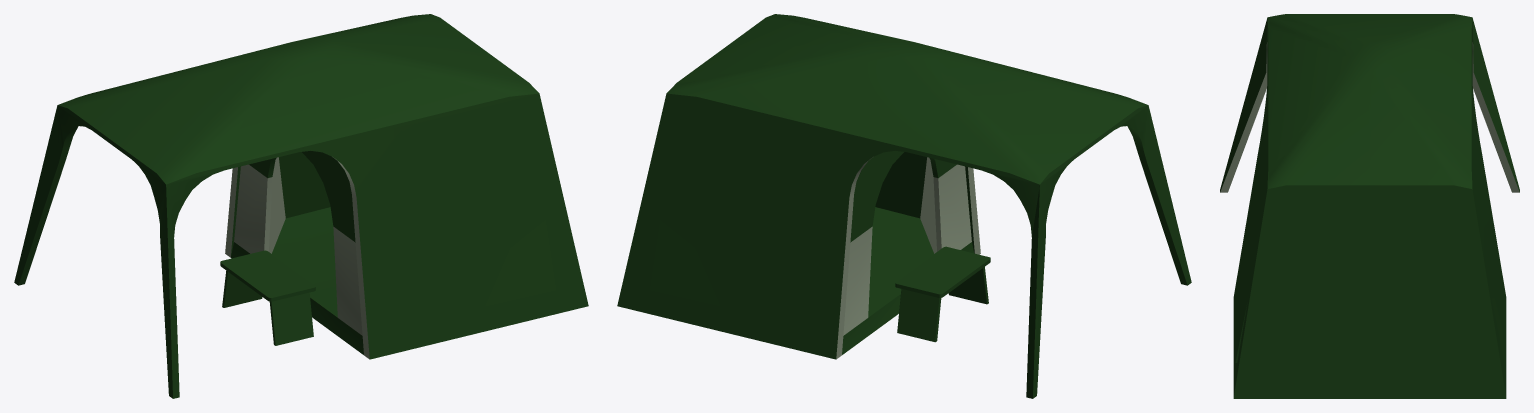
Rendered from Tent.fbx.
The picture shows the model from 3 angles, left to right: view 1: azimuth 30°, elevation 25°; view 2: azimuth 150°, elevation 25°; view 3: azimuth 270°, elevation 25°; orthographic projection. The views are drawn at different scales.
Visible parts, largest first — view 1: Cube, Cube.001; view 2: Cube, Cube.001; view 3: Cube.
Part boxes in pixels (x1,y1,x2,y2): Cube: [14, 14, 588, 398]; Cube.001: [220, 250, 315, 345]; Cube: [617, 14, 1191, 398]; Cube.001: [895, 246, 990, 342]; Cube: [1220, 14, 1519, 398].
Bounding box in the file's own units: 452 × 267 × 294.
